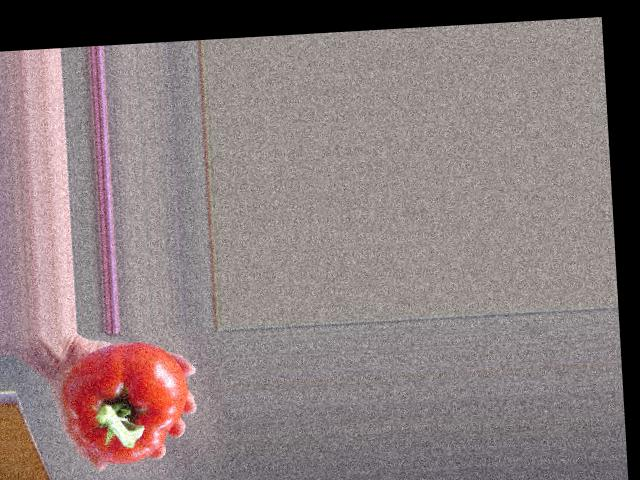tomato: (60, 339, 192, 467)
